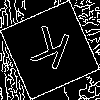K: (25, 25, 73, 80)
